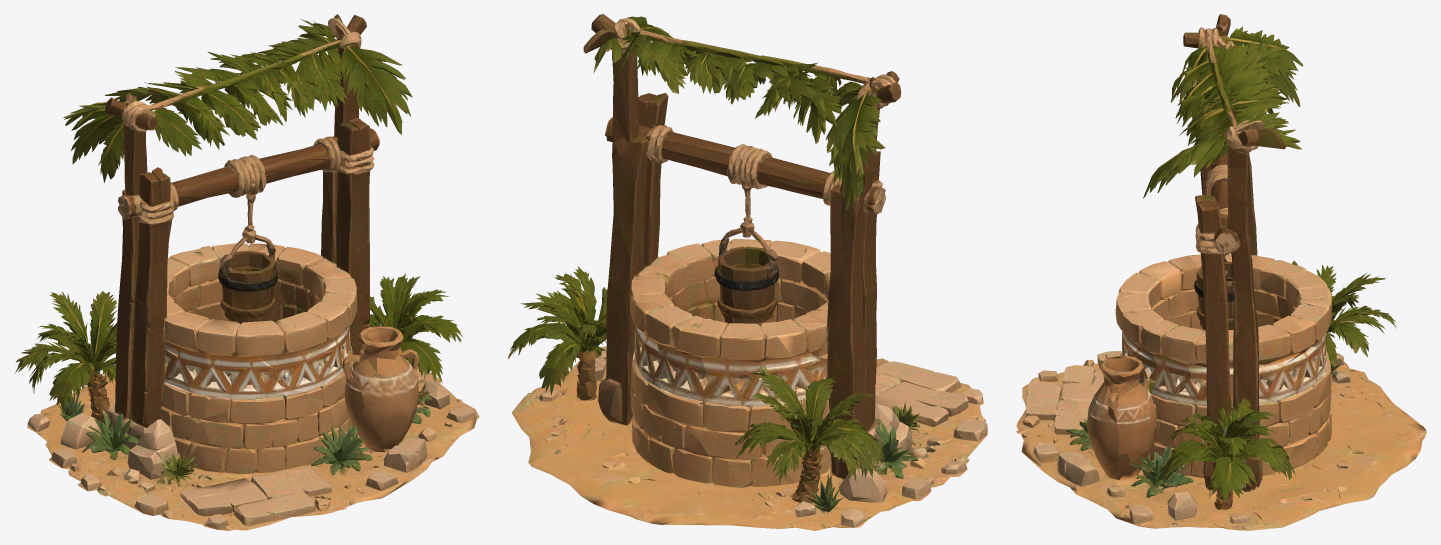
File: well.glb
3 renders of one model, left to right at view 1: azimuth 30°, elevation 25°; view 2: azimuth 150°, elevation 25°; view 3: azimuth 270°, elevation 25°, orthographic. The views are drawn at different scales.
Visible parts, largest first — view 1: well; view 2: well; view 3: well.
Boxes of the visible parts, x1,y1,x2,y2 form: well: [15, 14, 479, 530]; well: [508, 14, 987, 530]; well: [1016, 14, 1426, 530].
Size of the model in its own units: 1.9 by 1.71 by 1.73.
Materials: 1 (1 with a texture image).
